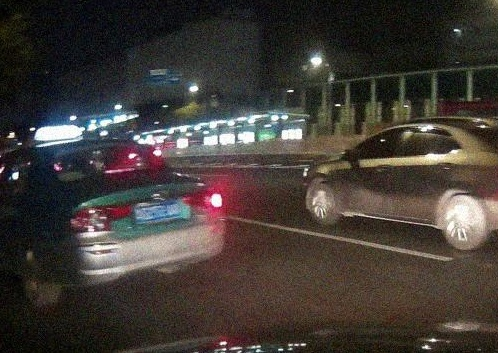L_light: (68, 202, 131, 233)
R_light: (182, 185, 224, 210)
T_light: (102, 166, 136, 173)
night-right: (35, 136, 225, 295)
